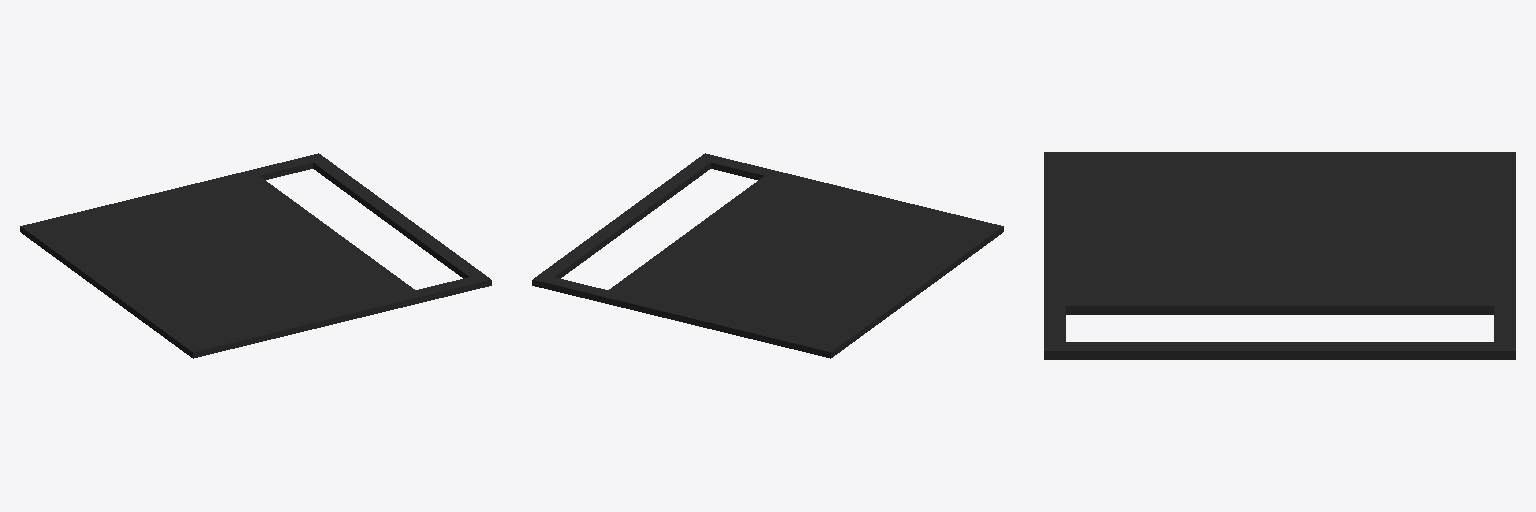
robot.urdf — Room44:
<robot name="Room44">
    <link name="_name">
        <visual> 
            <origin rpy="0.0 0.0 0.0" xyz="-0.4286235800973886 -0.49990693783556167 -0.009999999999999998" />
                <geometry>
                    <mesh filename="Room44/Room44.obj" scale="1 1 0.1" />
                </geometry>

            <material name="black">
                <color rgba="0.2 0.2 0.2 0.95" />
            </material>
        </visual>

       <collision concave="yes" name="collision_0">
            <origin rpy="0.0 0.0 0.0" xyz="-0.4286235800973886 -0.49990693783556167 -0.009999999999999998" />
            <geometry>
                <mesh filename="Room44/Room44_vhacd.obj" scale="1 1 0.1" />
            </geometry>
        </collision>

        <inertial> 
            <mass value="0" />
            <inertia ixx="0" ixy="0" ixz="0" iyy="0" iyz="0" izz="0" />
        </inertial> 
    </link>
</robot>

--- Render facts (derived) ---
Views: 3 orthographic renders of the robot side by side, from view 1: azimuth 30°, elevation 25°; view 2: azimuth 150°, elevation 25°; view 3: azimuth 270°, elevation 25°.
Model Room44 with 1 links and 0 joints (none), rooted at _name, posed all joints at 0.
Visible links, largest first — view 1: _name; view 2: _name; view 3: _name.
Link boxes in pixels (x1,y1,x2,y2): _name: (20, 153, 491, 358); _name: (532, 153, 1003, 358); _name: (1044, 152, 1515, 359).
Size in the robot's own frame: 1 by 1 by 0.02 metres.
Meshes: 1 distinct files referenced, 1 mesh visuals loaded (1 OBJ).